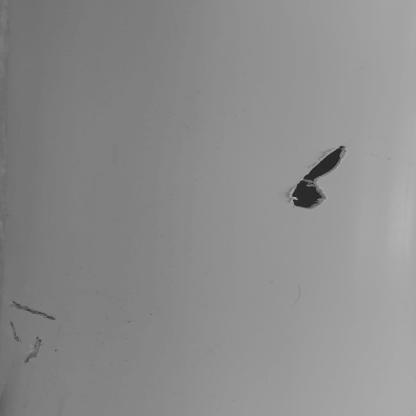fengxi: (10, 303, 58, 322), (26, 336, 42, 364), (10, 322, 20, 346)
kongdong: (290, 146, 347, 209)
